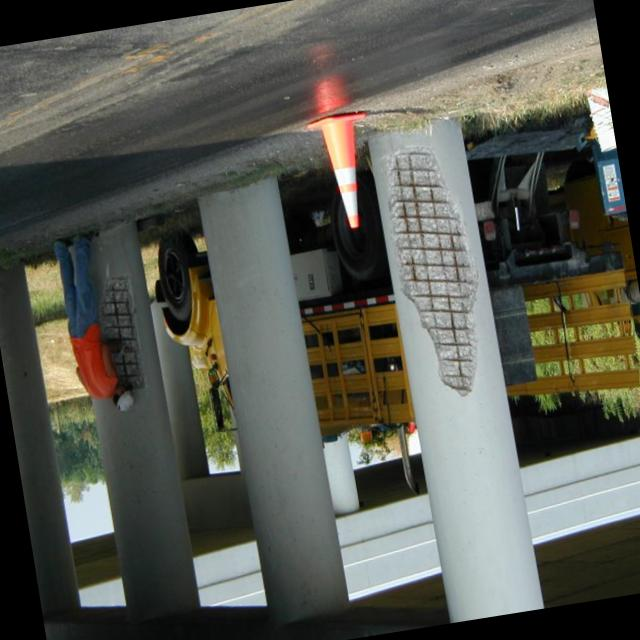spalling: (386, 147, 479, 396)
